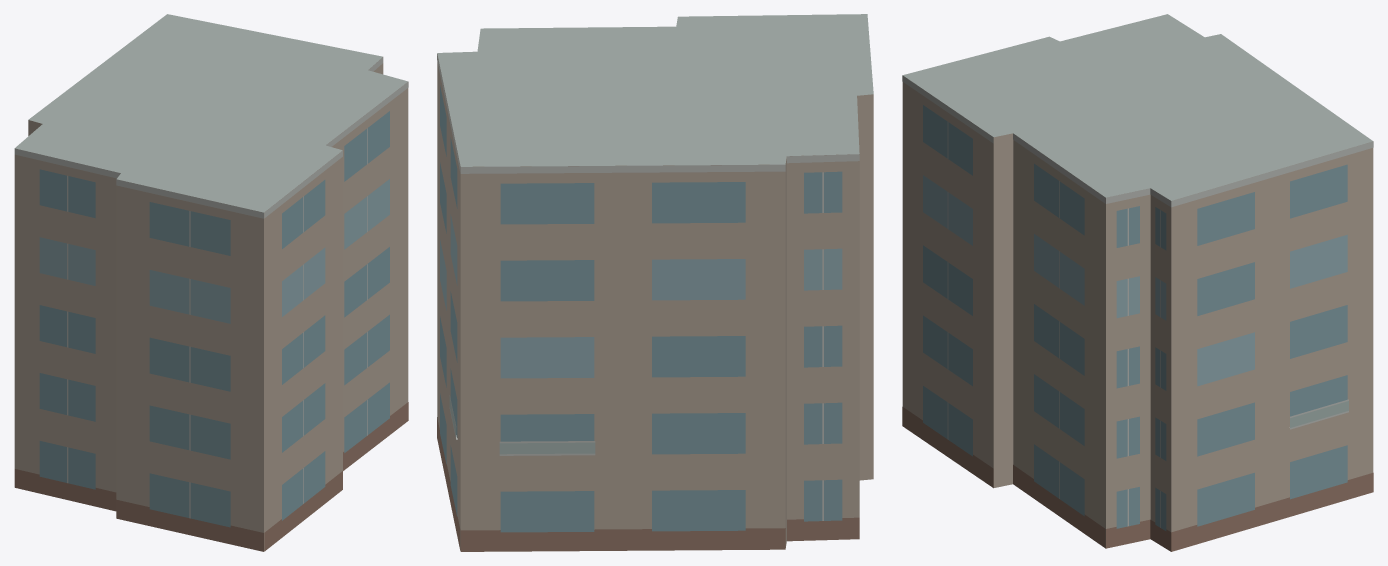
Rendered from survey-upis-32862834.glb.
3 renders of one model, left to right at view 1: azimuth 30°, elevation 25°; view 2: azimuth 150°, elevation 25°; view 3: azimuth 270°, elevation 25°, orthographic. The views are drawn at different scales.
Parts seen in each view (by area): view 1: survey-upis-32862834.tmp; view 2: survey-upis-32862834.tmp; view 3: survey-upis-32862834.tmp.
Part boxes in pixels (box(x1,y1,x2,y2)): survey-upis-32862834.tmp: box(14, 14, 408, 551); survey-upis-32862834.tmp: box(437, 14, 873, 551); survey-upis-32862834.tmp: box(902, 14, 1373, 551).
Bounding box in the file's own units: 15.32 × 13.4 × 16.31.
